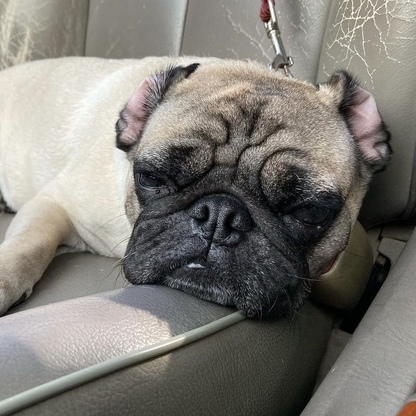Pug: (1, 40, 400, 333)
